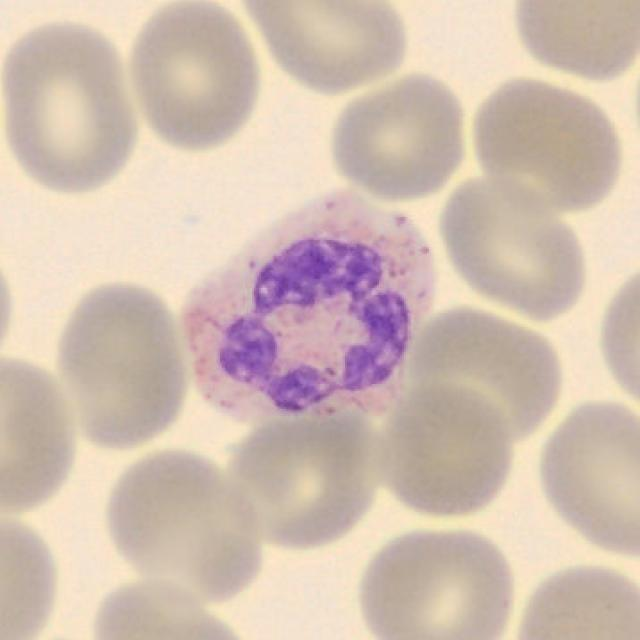Neutrofilo segmentado: (181, 190, 436, 425)
